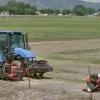Tractor: (3, 21, 56, 90)
